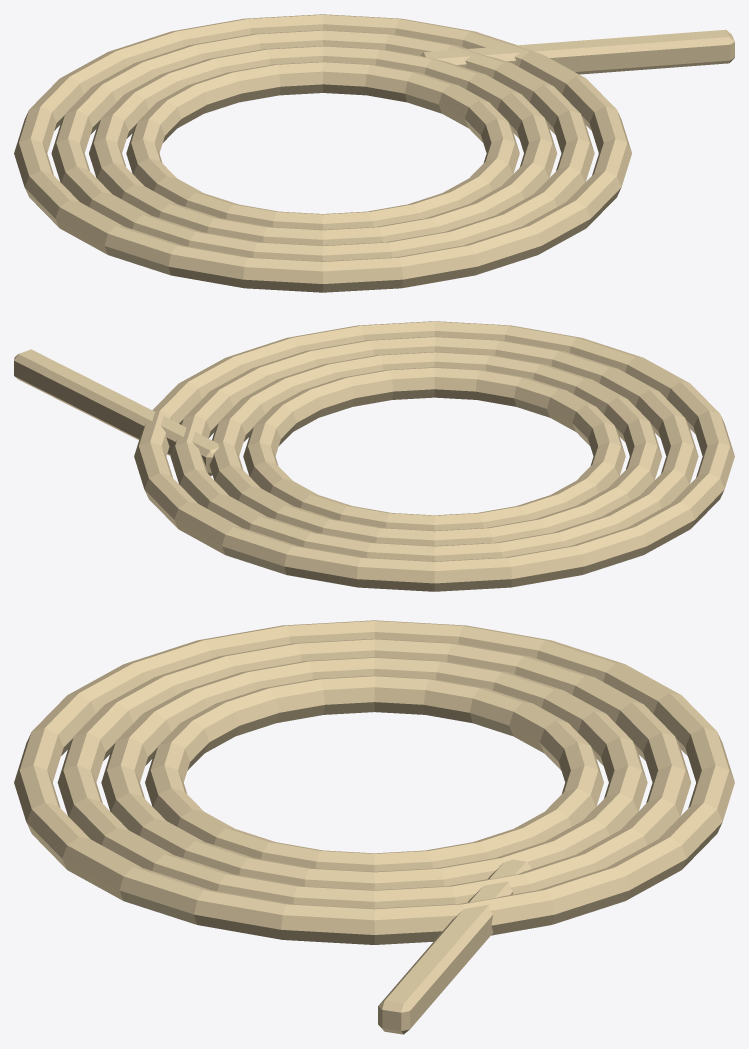
File: mooring_rope_coil.glb
3 views of the same model, one above another, from view 1: azimuth 30°, elevation 25°; view 2: azimuth 150°, elevation 25°; view 3: azimuth 270°, elevation 25° (orthographic). The views are drawn at different scales.
Visible parts, largest first — view 1: rope_loop (×4), rope_tail; view 2: rope_loop (×4), rope_tail; view 3: rope_loop (×4), rope_tail.
Boxes of the visible parts, x1=… form: rope_loop (×4): x1=14, y1=14, x2=631, y2=292; rope_tail: x1=420, y1=29, x2=734, y2=74; rope_loop (×4): x1=134, y1=321, x2=734, y2=591; rope_tail: x1=14, y1=349, x2=219, y2=475; rope_loop (×4): x1=14, y1=620, x2=734, y2=944; rope_tail: x1=378, y1=859, x2=532, y2=1034.
Bounding box in the file's own units: 0.5732 × 0.024 × 0.446.
